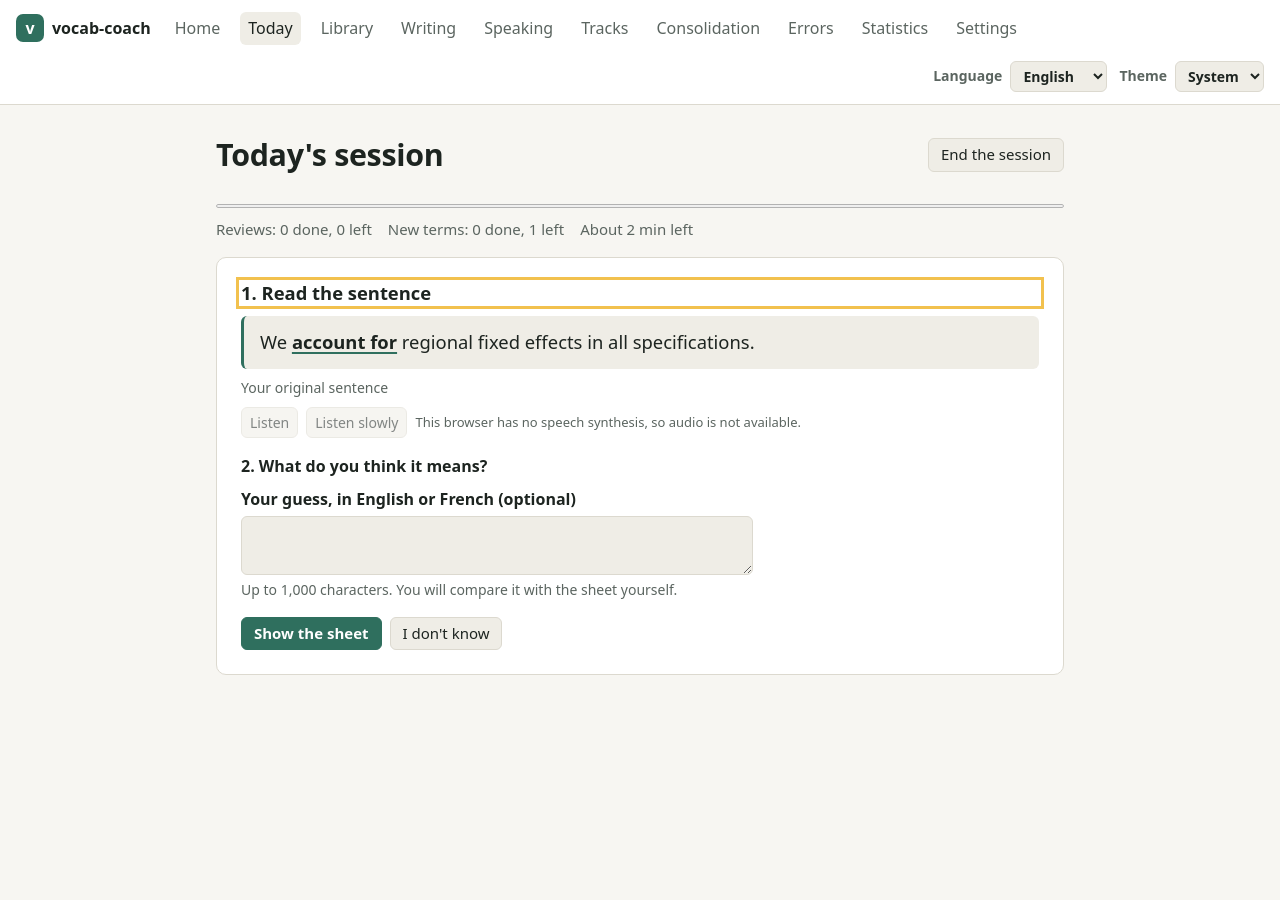
it: Discovery of a new term › is translated into French
This screenshot has width=1280, height=900.
Check: the heading "1. Read the sentence" is shown, box [241,280,431,305]
Step 1. Select "Français" in the dropdown labelled "Language" → (1059, 76), box [1010,61,1107,92]
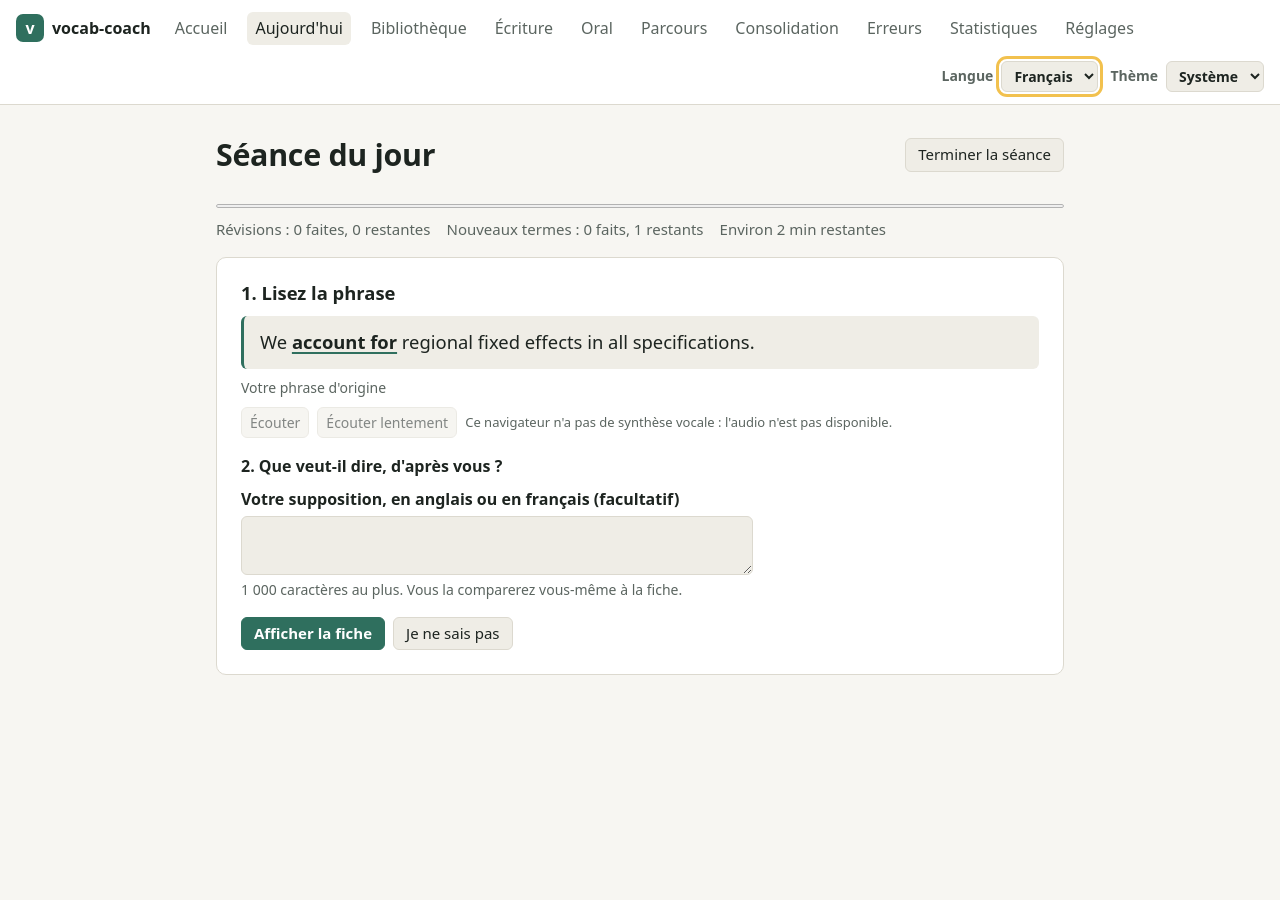
Check: the heading "1. Lisez la phrase" is shown, box [241,280,396,305]
Check: the button "Je ne sais pas" is shown, box [393,617,512,650]
Check: the text "Votre phrase d'origine" is shown, box [241,378,386,397]
